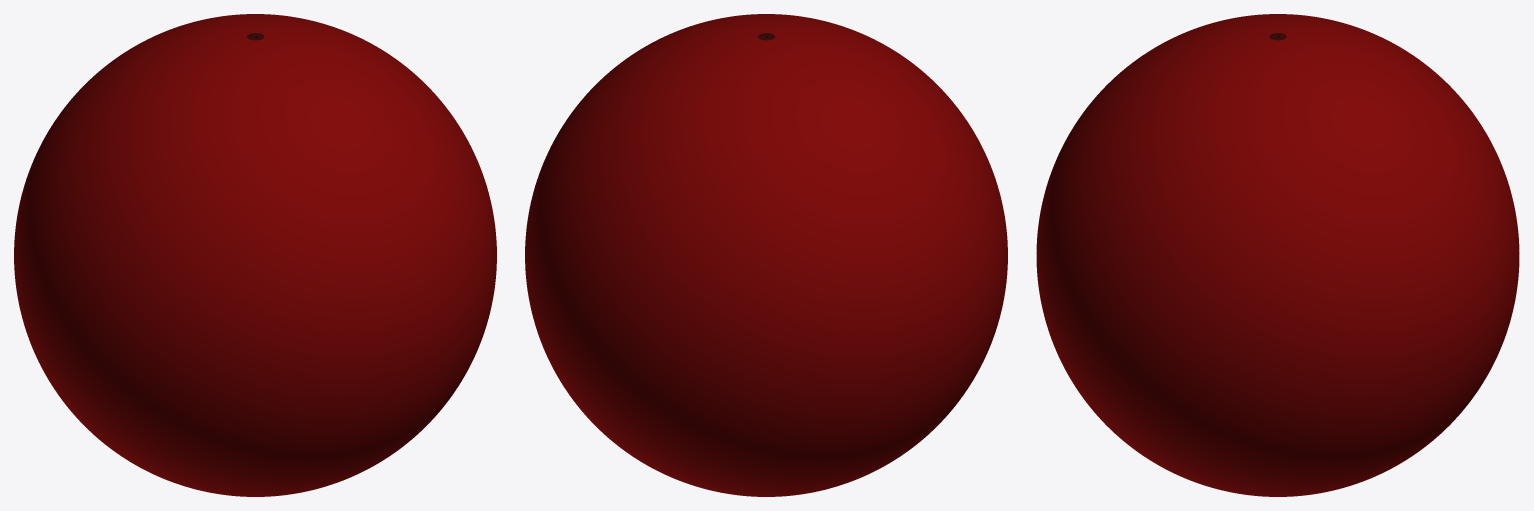
The picture shows the model from 3 angles, left to right: view 1: azimuth 30°, elevation 25°; view 2: azimuth 150°, elevation 25°; view 3: azimuth 270°, elevation 25°; orthographic projection.
Parts seen in each view (by area): view 1: part_000_Outer_cover; view 2: part_000_Outer_cover; view 3: part_000_Outer_cover.
Part boxes in pixels (x1,y1,x2,y2): part_000_Outer_cover: [14, 14, 496, 496]; part_000_Outer_cover: [525, 14, 1007, 496]; part_000_Outer_cover: [1036, 14, 1519, 496].
Size of the model in its own units: 0.156 by 0.1559 by 0.156.
